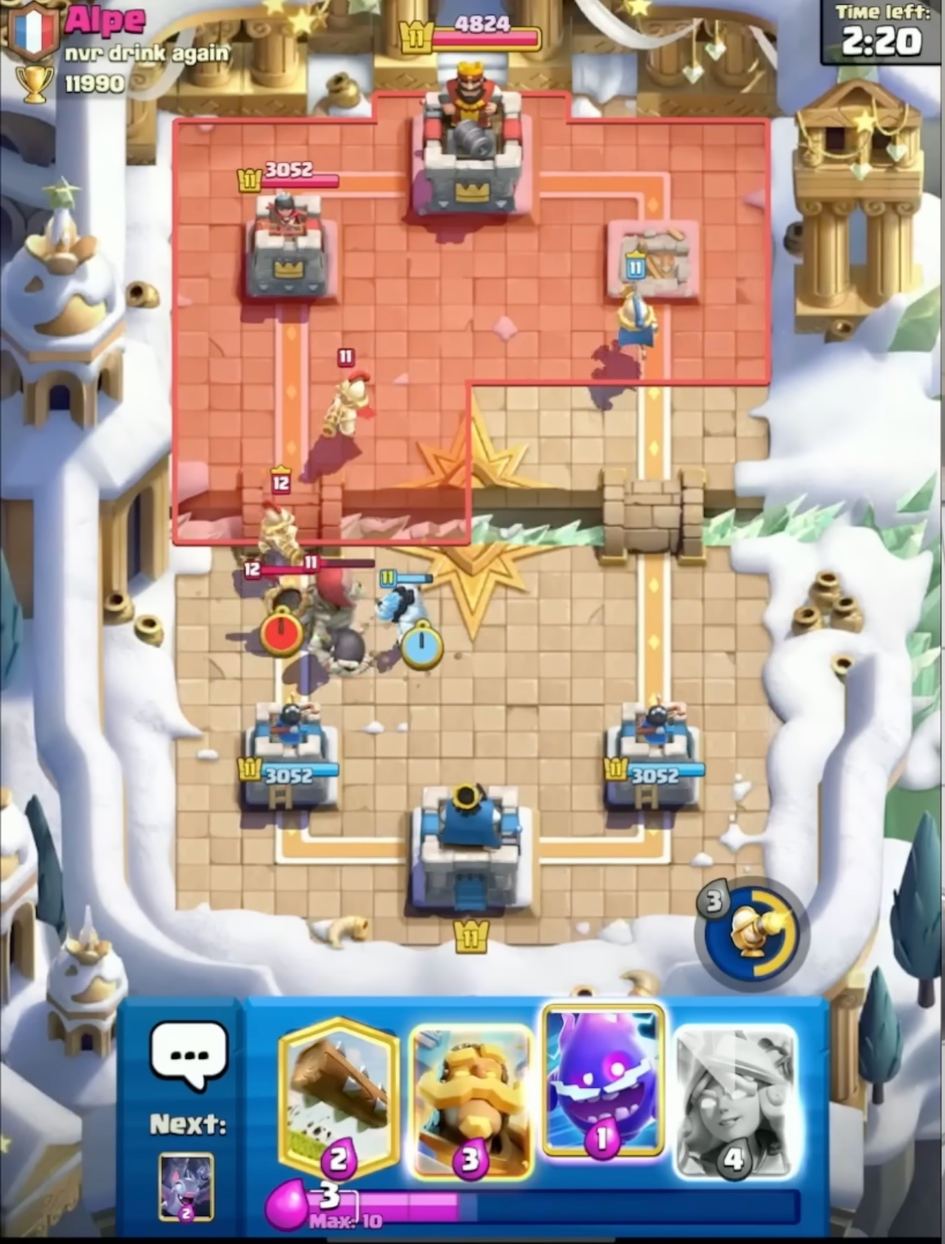hero-musketeer: (313, 344, 384, 451), (250, 459, 313, 579)
skeleton-giant: (275, 553, 383, 683)
